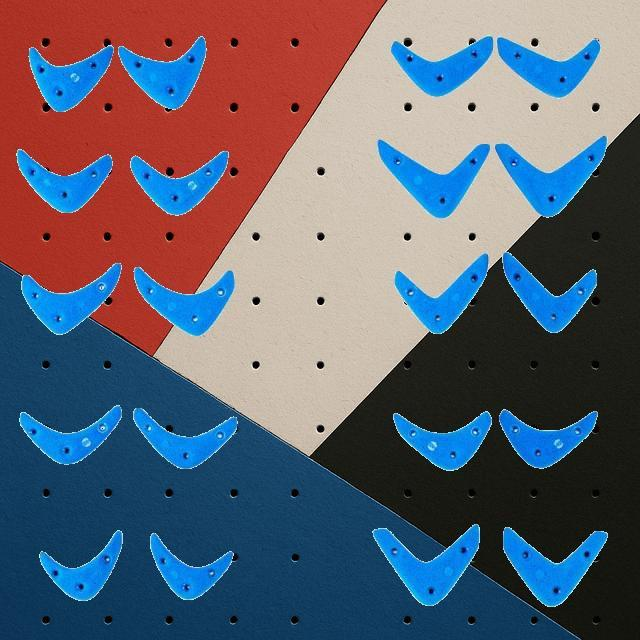Crimp: (377, 134, 608, 218), (389, 33, 601, 99), (495, 135, 607, 217), (372, 522, 480, 606), (376, 138, 489, 218), (502, 526, 606, 606), (393, 252, 489, 334), (502, 251, 598, 333), (133, 264, 235, 336), (20, 262, 120, 334), (496, 34, 600, 98), (132, 406, 238, 468), (118, 35, 206, 109), (389, 35, 493, 97), (130, 150, 228, 214), (18, 404, 122, 464), (16, 148, 112, 212), (392, 410, 492, 470), (498, 408, 598, 468), (38, 530, 122, 600), (149, 532, 233, 600), (28, 44, 112, 112)
